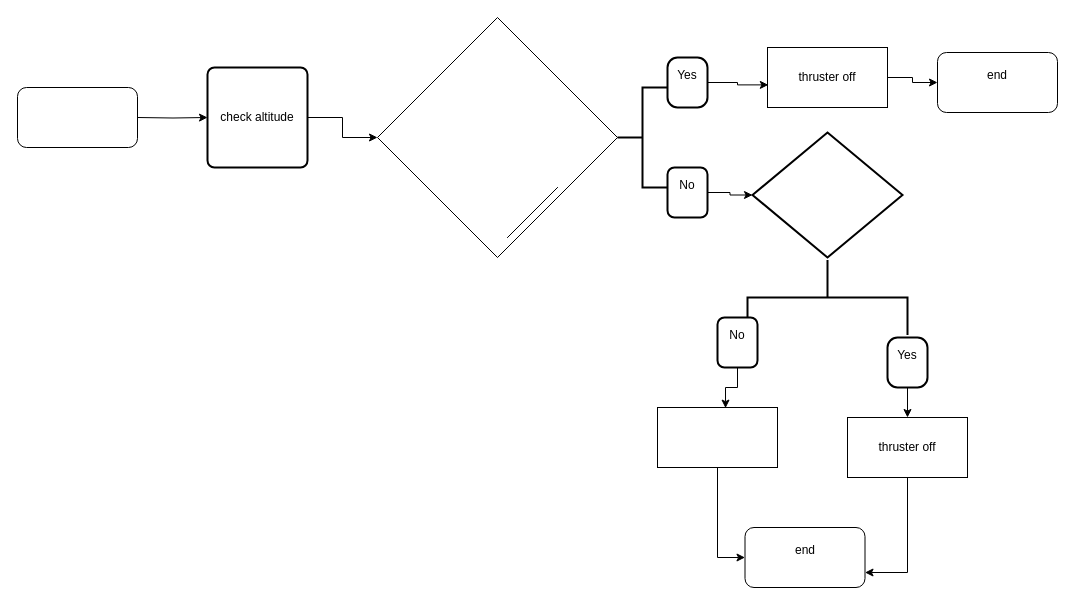
The diagram is 1075 pixels wide and 605 high, and some of its shapes have lost their labels. Each missing label, with the centre of its shape:
altitude <=0?: point 827,194
altitude>100?: point 497,137
start: point 77,117
thruster On: point 717,437
